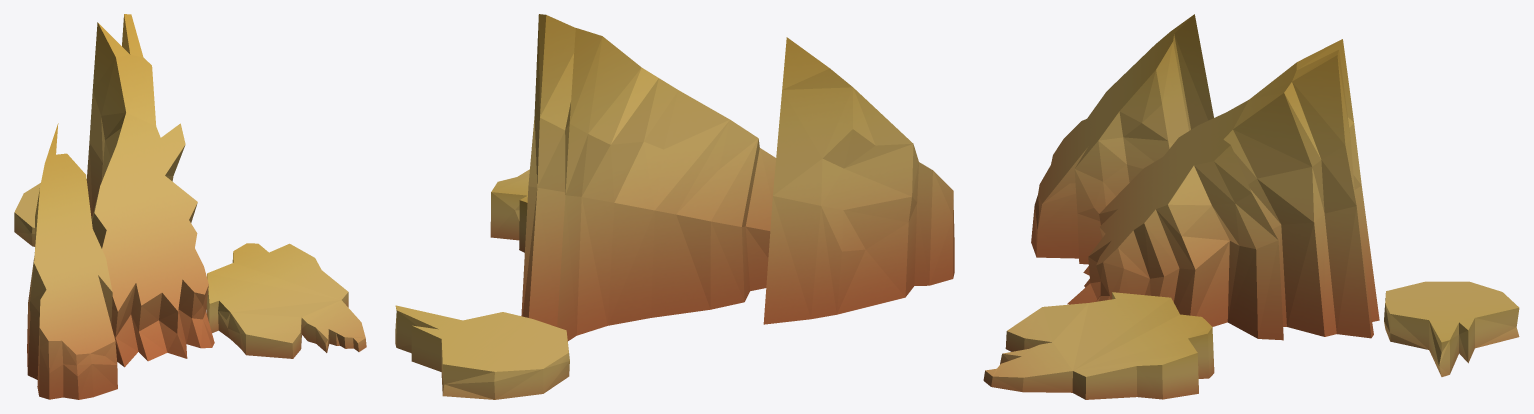
File: Canyon_Mountains_001.FBX
3 views of the same model, side by side, from view 1: azimuth 30°, elevation 25°; view 2: azimuth 150°, elevation 25°; view 3: azimuth 270°, elevation 25° (orthographic). The views are drawn at different scales.
Parts seen in each view (by area): view 1: Canyon_Mountains_001; view 2: Canyon_Mountains_001; view 3: Canyon_Mountains_001.
Boxes of the visible parts, x1,y1,x2,y2 form: Canyon_Mountains_001: [14, 14, 366, 399]; Canyon_Mountains_001: [395, 14, 954, 399]; Canyon_Mountains_001: [983, 14, 1519, 399].
Size of the model in its own units: 961 by 709 by 1207.
1 material, 1 textured.
